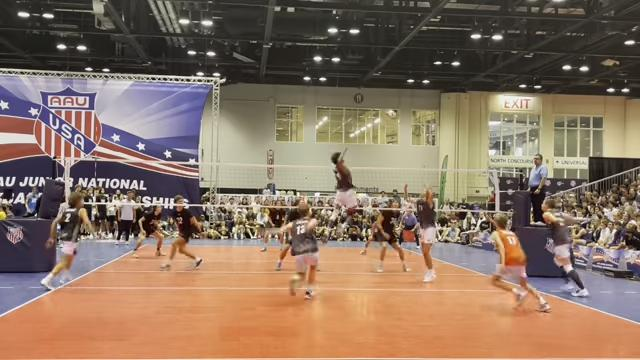Player: (491, 214, 550, 311), (41, 192, 92, 289), (542, 199, 588, 296), (281, 202, 318, 299), (161, 195, 202, 269), (375, 202, 409, 271), (330, 151, 356, 235), (132, 205, 163, 257), (275, 233, 292, 270), (360, 222, 376, 254), (268, 200, 285, 228)
Set: (404, 180, 446, 284)
ball: (385, 107, 397, 118)
